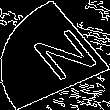N_SE: (14, 23, 96, 87)
